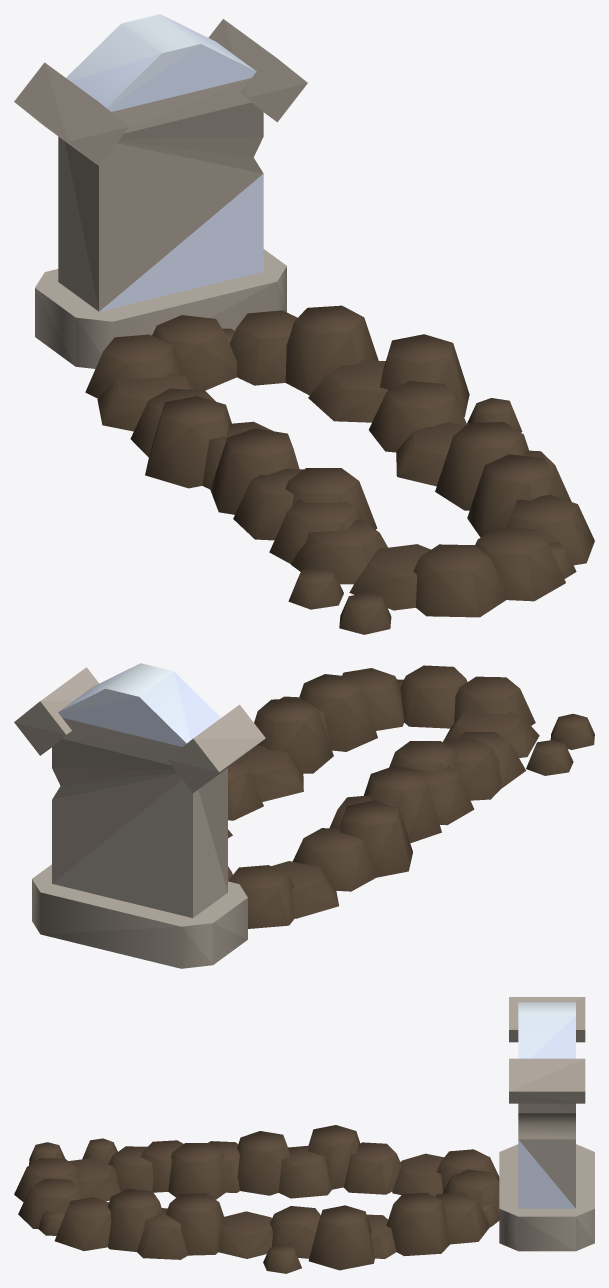
Rendered from kenney_graveyard_grave_border_gravestone_decorative.glb.
The picture shows the model from 3 angles, top to bottom: view 1: azimuth 30°, elevation 25°; view 2: azimuth 150°, elevation 25°; view 3: azimuth 270°, elevation 25°; orthographic projection. The views are drawn at different scales.
Parts seen in each view (by area): view 1: stone (×2), cloth; view 2: stone (×2), cloth; view 3: stone (×2), cloth.
Part boxes in pixels (x1=…): stone (×2): x1=14, y1=19, x2=594, y2=634; cloth: x1=66, y1=14, x2=263, y2=311; stone (×2): x1=14, y1=665, x2=594, y2=968; cloth: x1=58, y1=663, x2=220, y2=746; stone (×2): x1=14, y1=997, x2=594, y2=1273; cloth: x1=518, y1=1002, x2=575, y2=1208.
Size of the model in its own units: 0.7617 by 0.5942 by 1.52.
